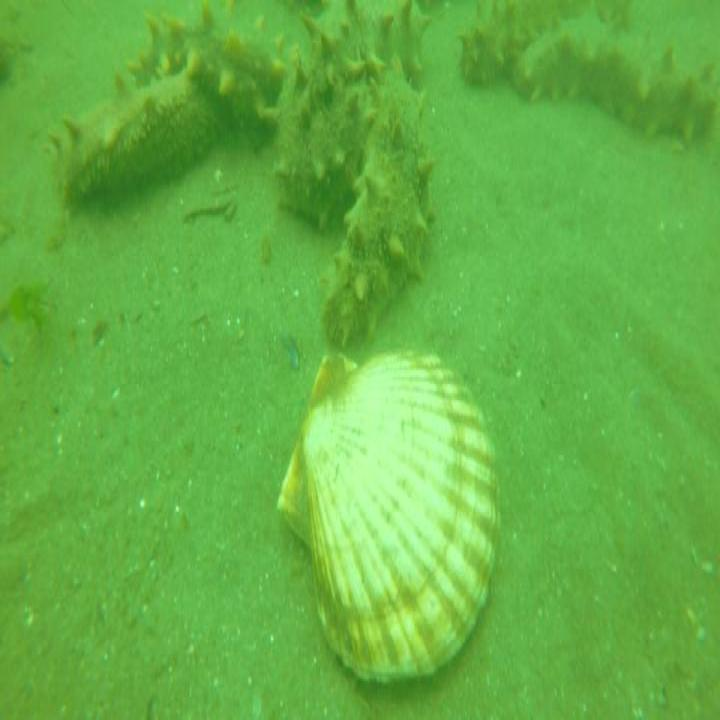holothurian: (272, 0, 434, 235), (313, 53, 436, 347), (511, 7, 720, 149), (45, 71, 216, 226), (126, 2, 284, 146), (455, 0, 618, 96)
scallop: (272, 345, 506, 704)
